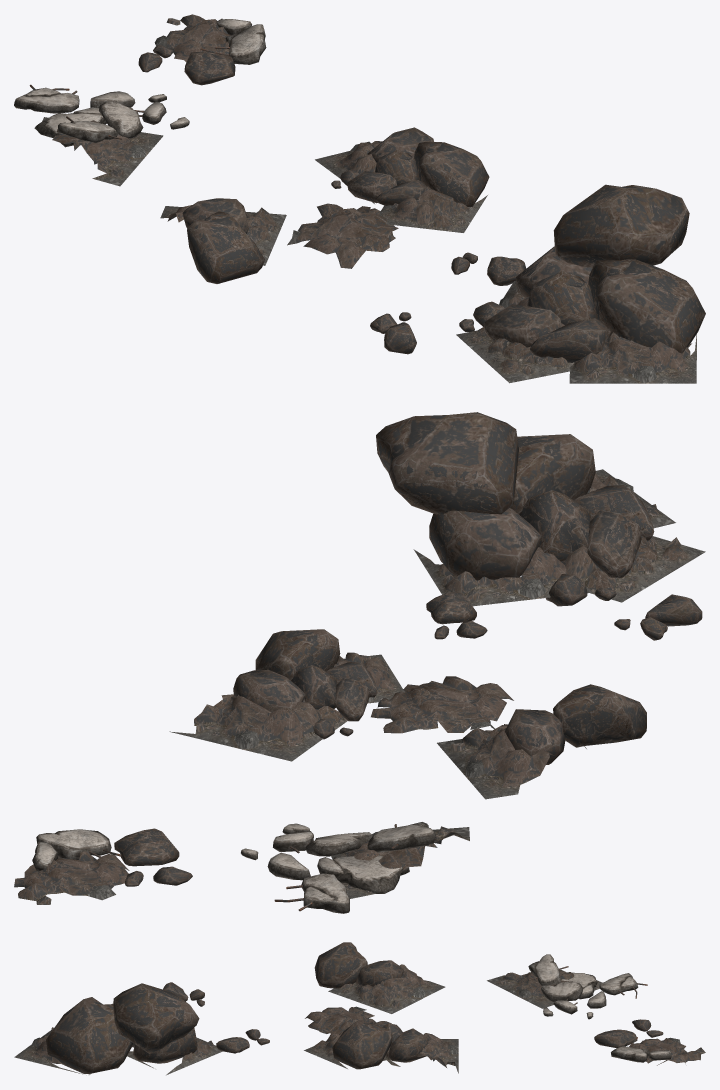
Rendered from straight_rough_terrain.dae.
3 renders of one model, top to bottom at view 1: azimuth 30°, elevation 25°; view 2: azimuth 150°, elevation 25°; view 3: azimuth 270°, elevation 25°, orthographic. The views are drawn at different scales.
Parts seen in each view (by area): view 1: Rocks, RockPile, Concrete; view 2: Rocks, RockPile, Concrete; view 3: Rocks, RockPile, Concrete.
Part boxes in pixels (<box>): Rocks: <box>138,45,705,362</box>; RockPile: <box>42,14,696,383</box>; Concrete: <box>14,19,266,147</box>; Rocks: <box>114,412,702,886</box>; RockPile: <box>14,469,705,904</box>; Concrete: <box>32,822,435,913</box>; Rocks: <box>46,942,663,1074</box>; RockPile: <box>14,964,705,1075</box>; Concrete: <box>528,954,671,1062</box>.
Size of the model in its own units: 7.57 by 18.64 by 2.62.
